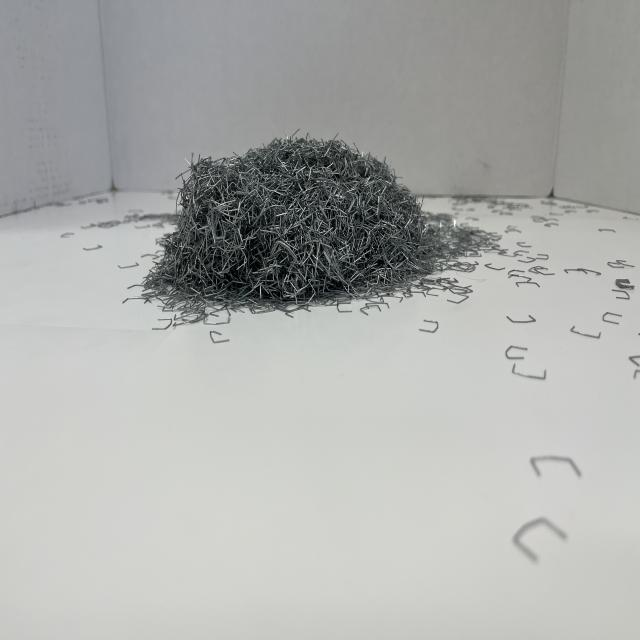staples: (146, 130, 440, 306)
